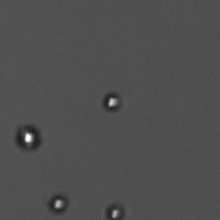Living Cell: (17, 122, 44, 151), (102, 90, 124, 113), (48, 194, 70, 211), (105, 203, 124, 220)
